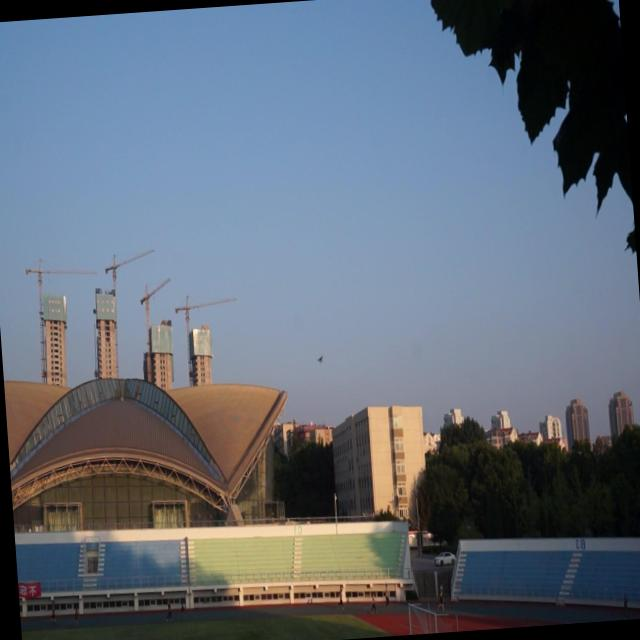drone: (314, 350, 326, 364)
